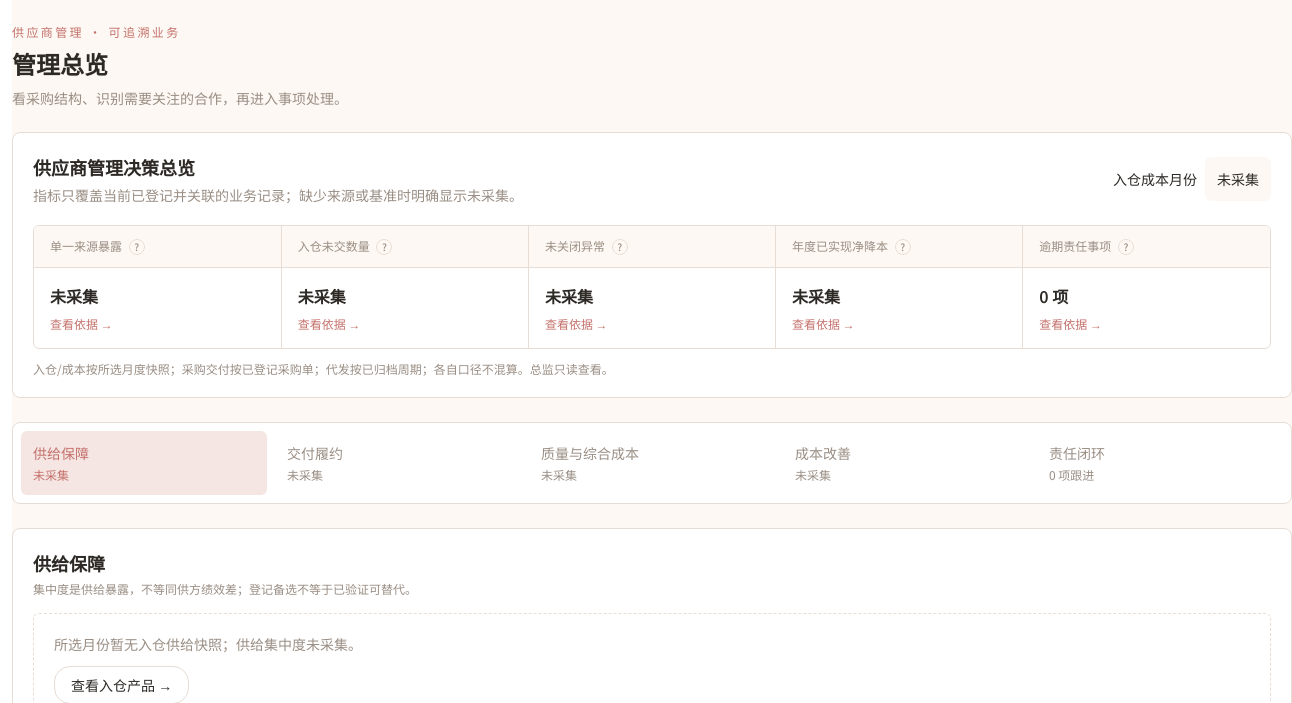
keeps dropship operating risk separate from cross-business responsibility follow-up
This screenshot has width=1292, height=703.
Click the tab "交付履约 未采集": (398, 463) [275,431,521,495]
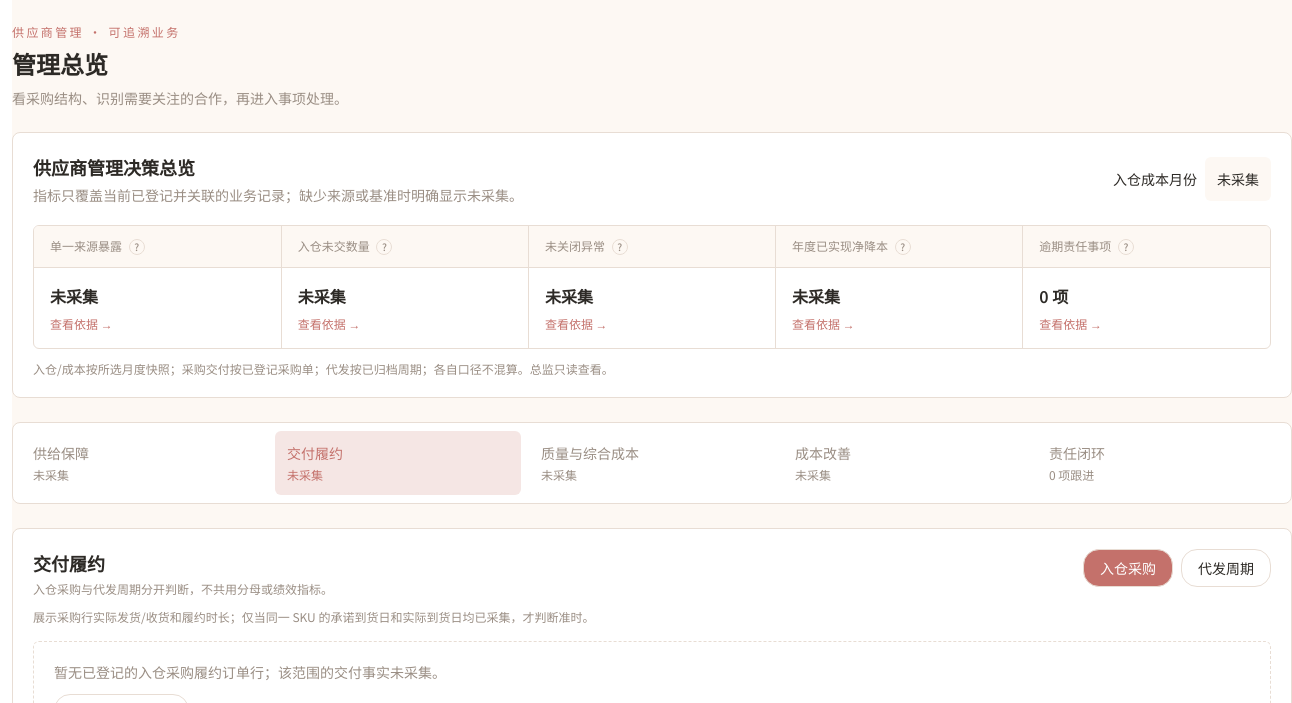
Expected: the text "代发经营监控" is not shown
Click the button "代发周期": (1226, 568) [1181,549,1271,587]
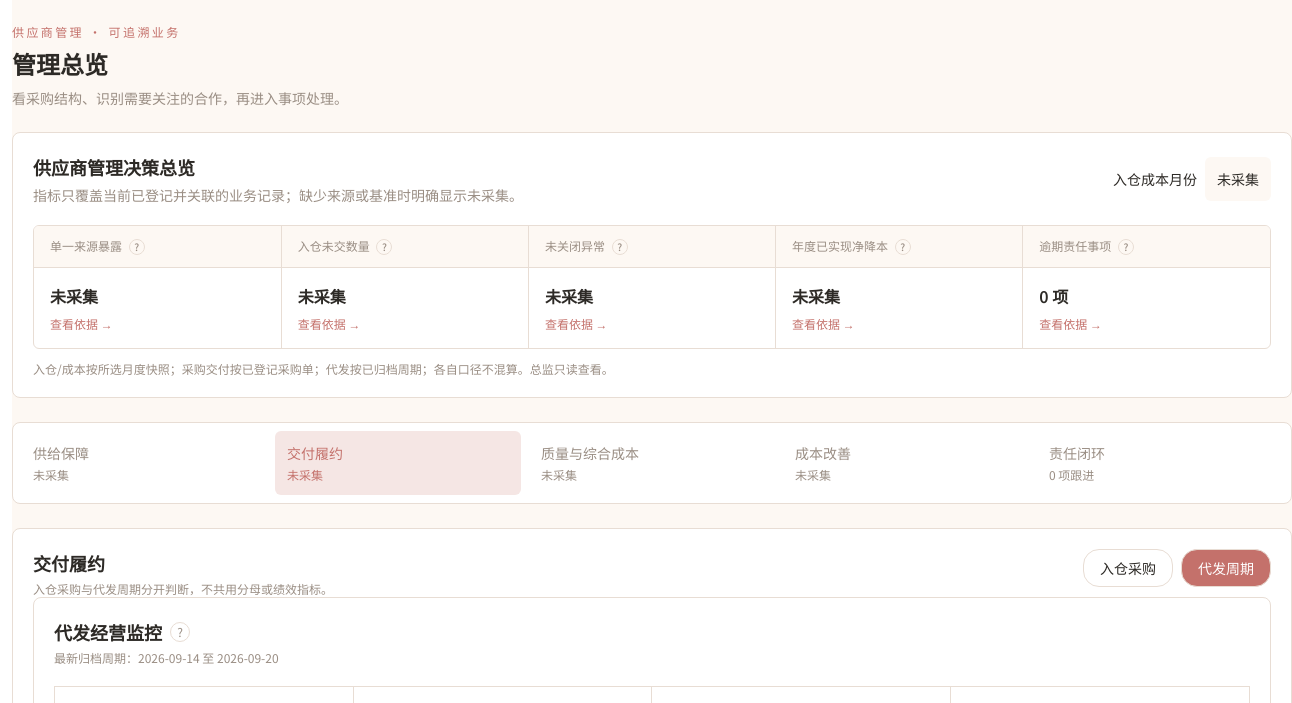
Now the heading "代发经营监控" is shown, box [54,618,162,646]
Click the tab "责任闭环 0 项跟进": (1160, 463) [1037,431,1283,495]
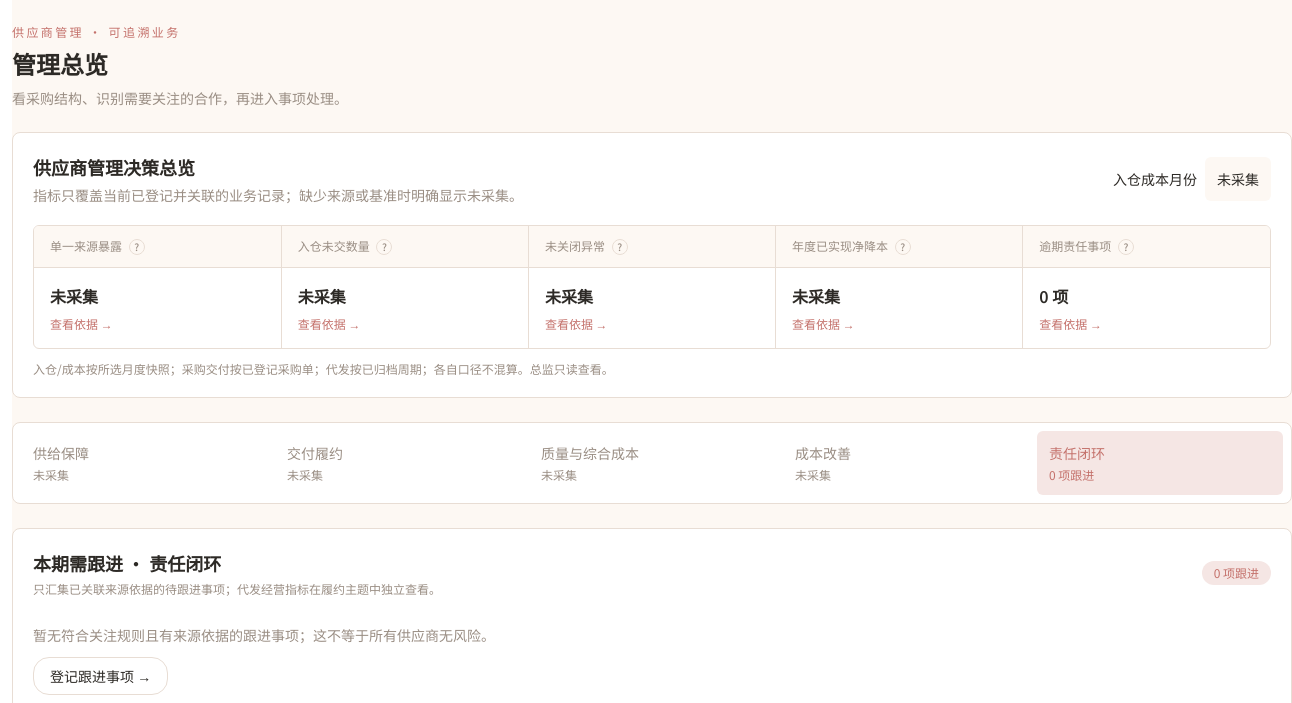
Now the heading "代发经营监控" is gone
